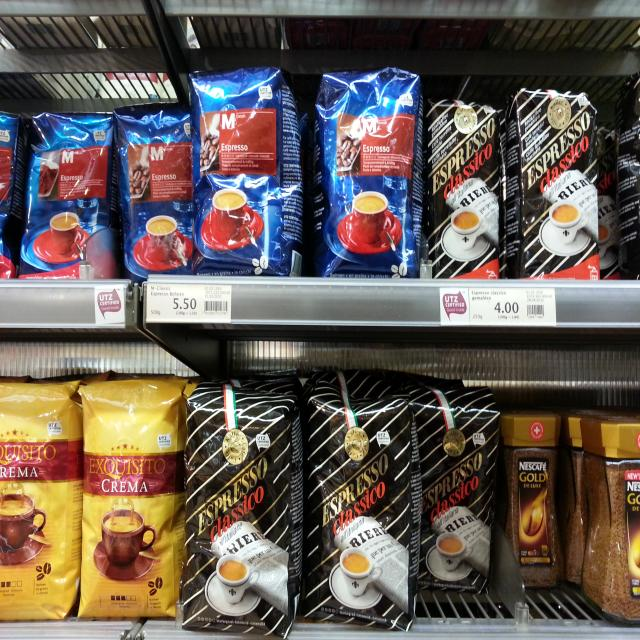Coffee: (184, 381, 305, 640), (298, 384, 418, 628), (77, 381, 185, 621), (311, 66, 420, 287), (190, 72, 302, 276), (0, 380, 78, 623), (409, 384, 499, 593), (507, 87, 603, 281), (16, 110, 114, 274), (424, 94, 505, 279), (574, 418, 640, 629), (113, 110, 194, 280), (506, 414, 562, 599)
